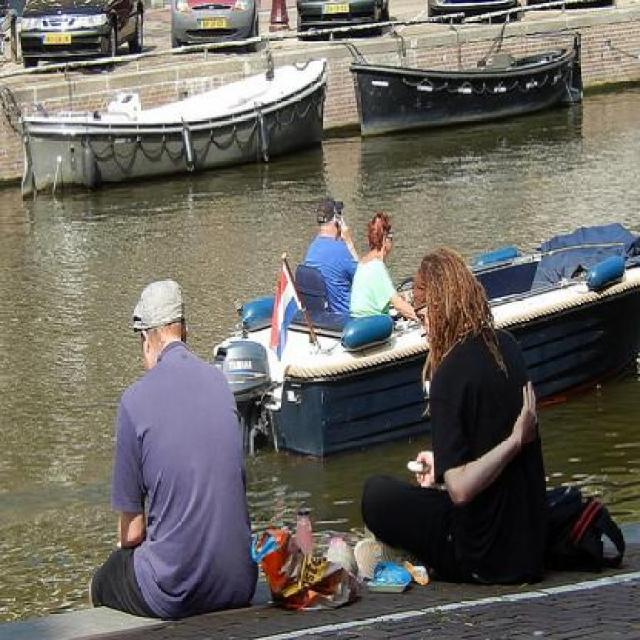ship: (213, 226, 639, 457), (16, 56, 324, 189), (351, 29, 594, 140)
